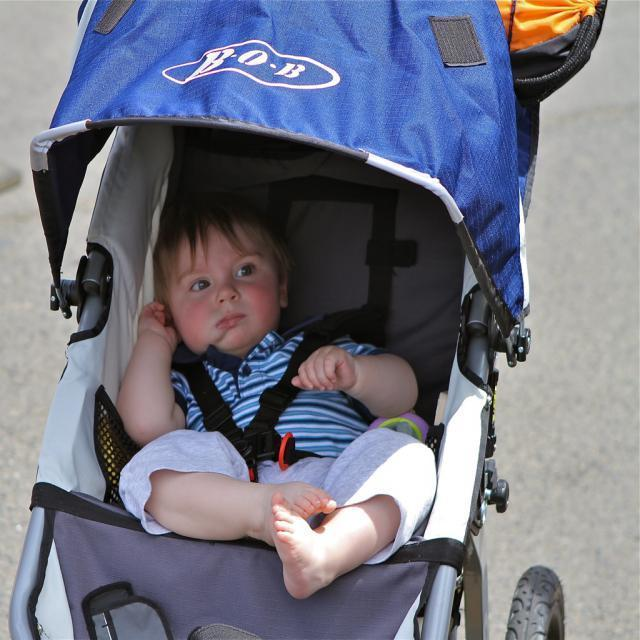closed-mouth: (215, 312, 248, 329)
